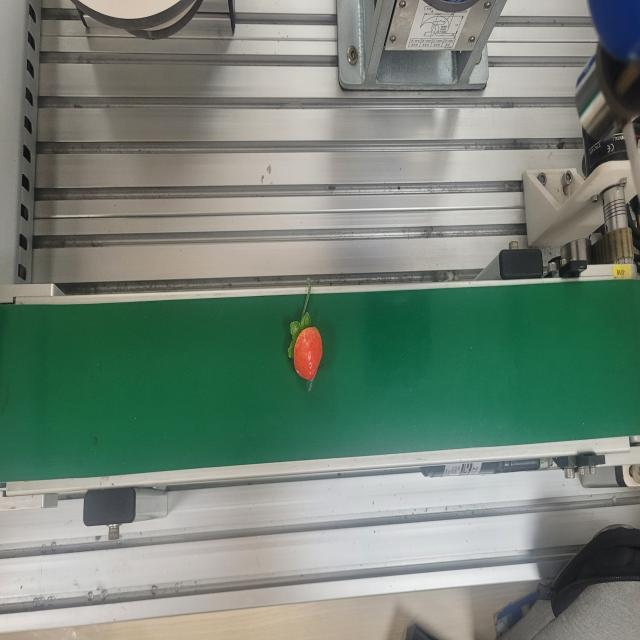Small Ripe Strawberry: (286, 275, 326, 386)
conveyor: (2, 271, 640, 495)
